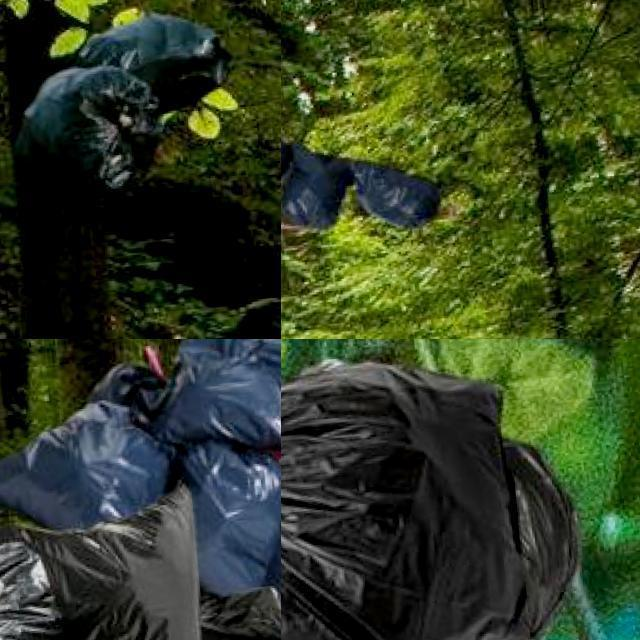waste: (281, 345, 586, 640), (0, 493, 219, 640), (0, 394, 165, 534), (11, 58, 156, 190), (164, 446, 281, 606), (74, 7, 234, 104), (150, 339, 281, 454), (349, 156, 446, 234), (281, 143, 359, 237)
